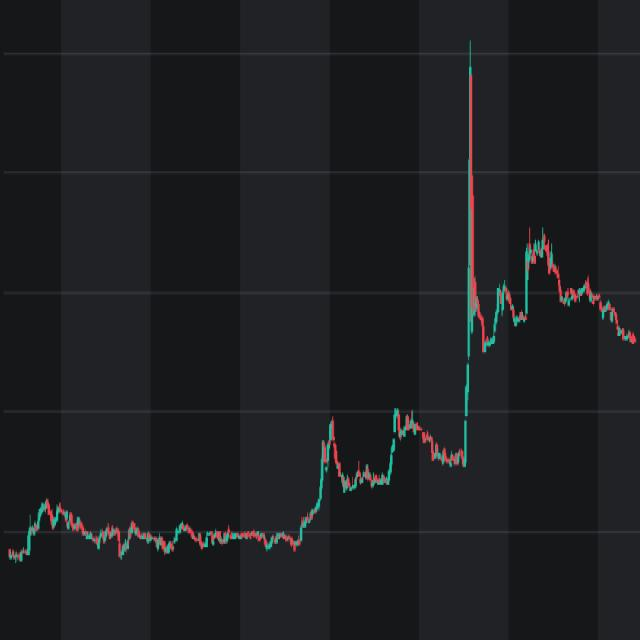Resistance-breakout: (320, 26, 478, 504)
